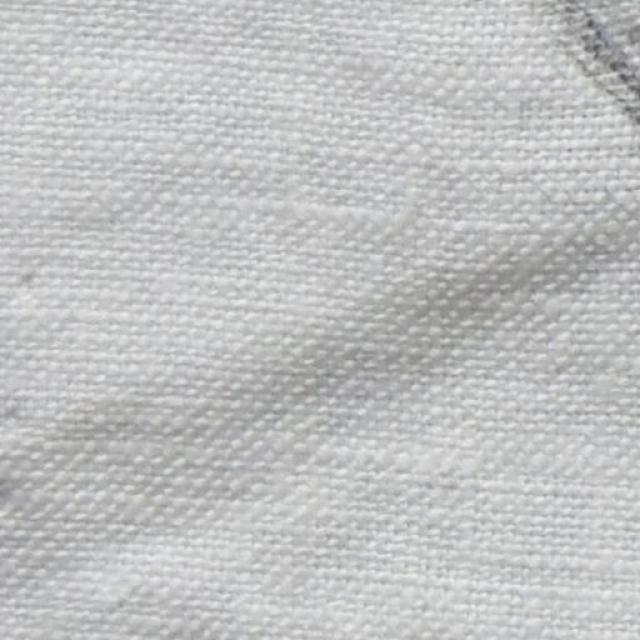Stain: (539, 0, 639, 141)
